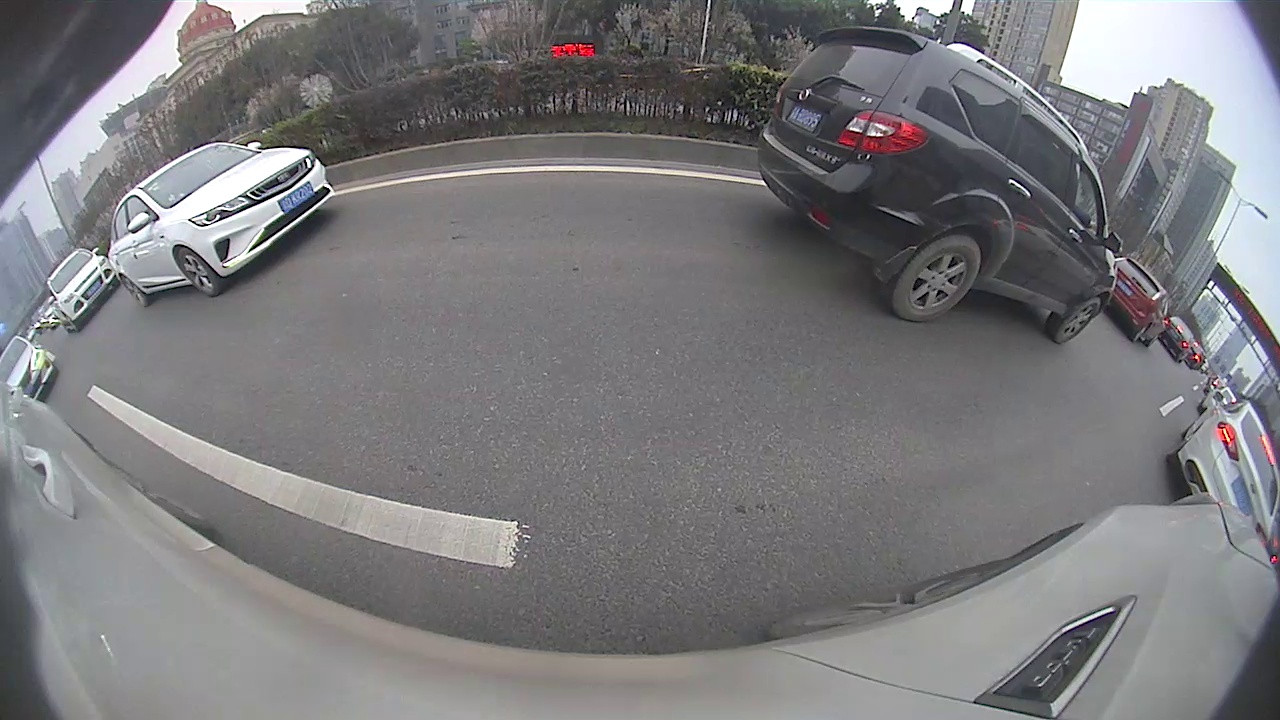car: (755, 24, 1124, 349), (104, 141, 336, 310), (1165, 394, 1277, 548), (41, 249, 121, 334), (1109, 255, 1174, 350), (1, 334, 59, 404)
front: (1051, 295, 1101, 344), (173, 245, 219, 296)
rear: (891, 234, 982, 322), (122, 273, 150, 308), (1131, 324, 1149, 344)
